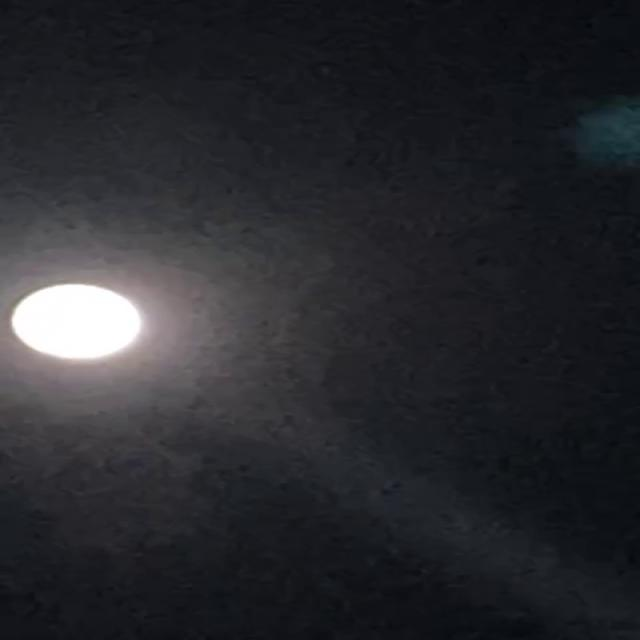moon: (0, 281, 151, 367)
